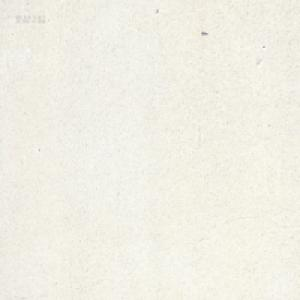Nail: (201, 29, 208, 34)
